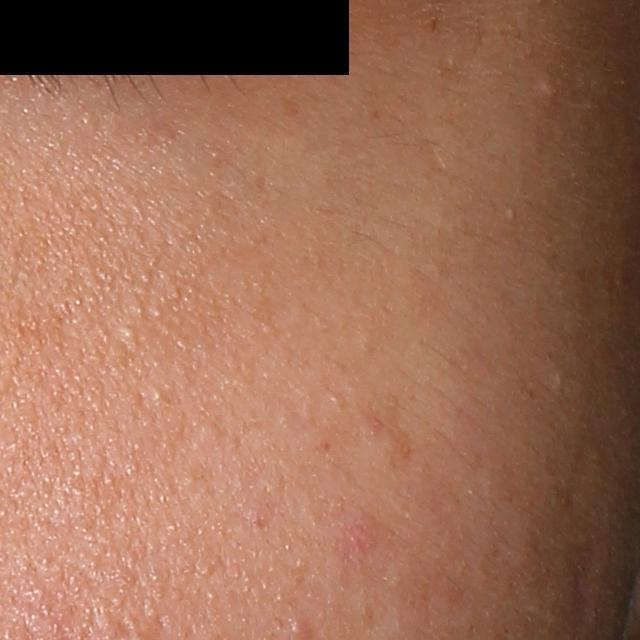atrophic_scar: (571, 538, 595, 625)
comedo: (534, 72, 559, 108), (324, 388, 341, 409), (120, 324, 136, 342)
melasma: (278, 94, 303, 120), (427, 12, 441, 36)
